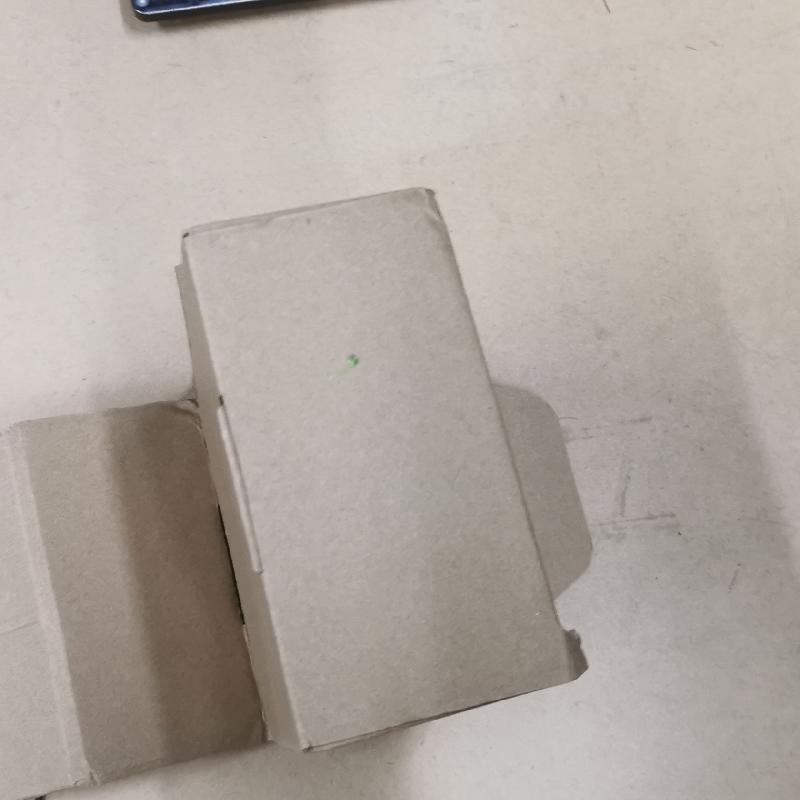boxes: (4, 189, 591, 800)
